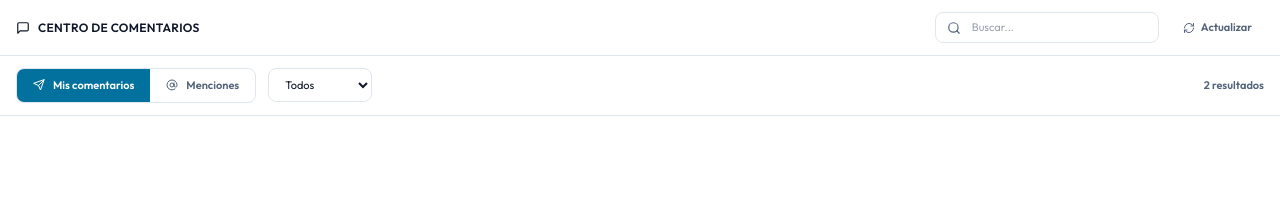
Test: CommentAdminPage › filters the list by search term
Type "Retiro" into the field named "Buscar comentarios".
click(1047, 28); type("Retiro")  # box [935,12,1159,43]
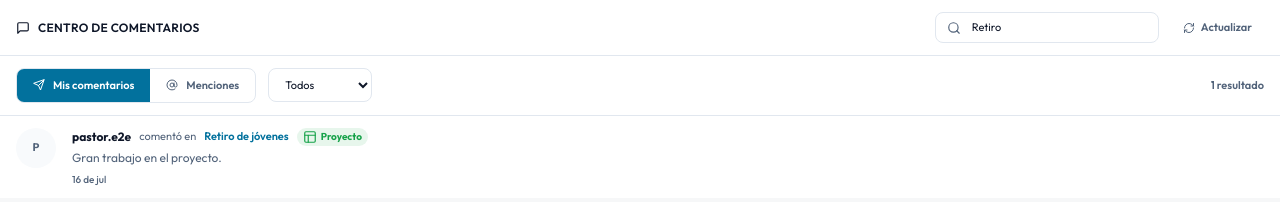
Expected: the text "Retiro de jóvenes" is shown, [204,128,289,145]
